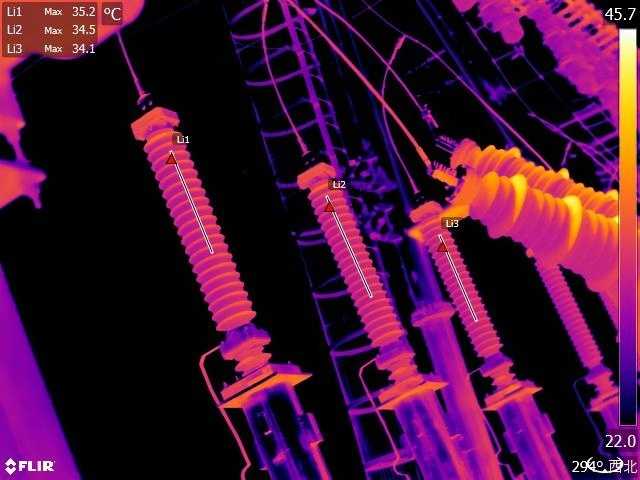insulator: (519, 1, 600, 92), (561, 20, 615, 113), (474, 1, 525, 65)
lightning arrester: (125, 87, 275, 358), (290, 140, 415, 369), (414, 191, 516, 377)
tube: (449, 168, 620, 280), (453, 129, 623, 221), (527, 247, 602, 376)
